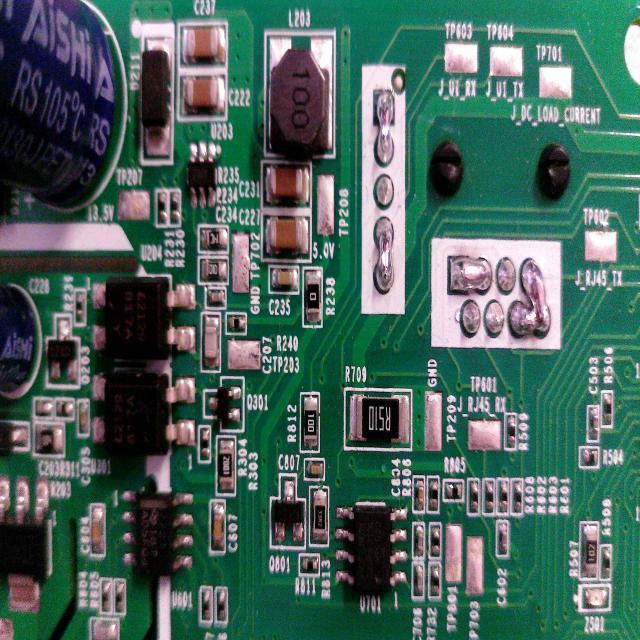Soldering shorted: (512, 248, 552, 346), (372, 214, 398, 300), (447, 252, 494, 298), (374, 90, 396, 168)
